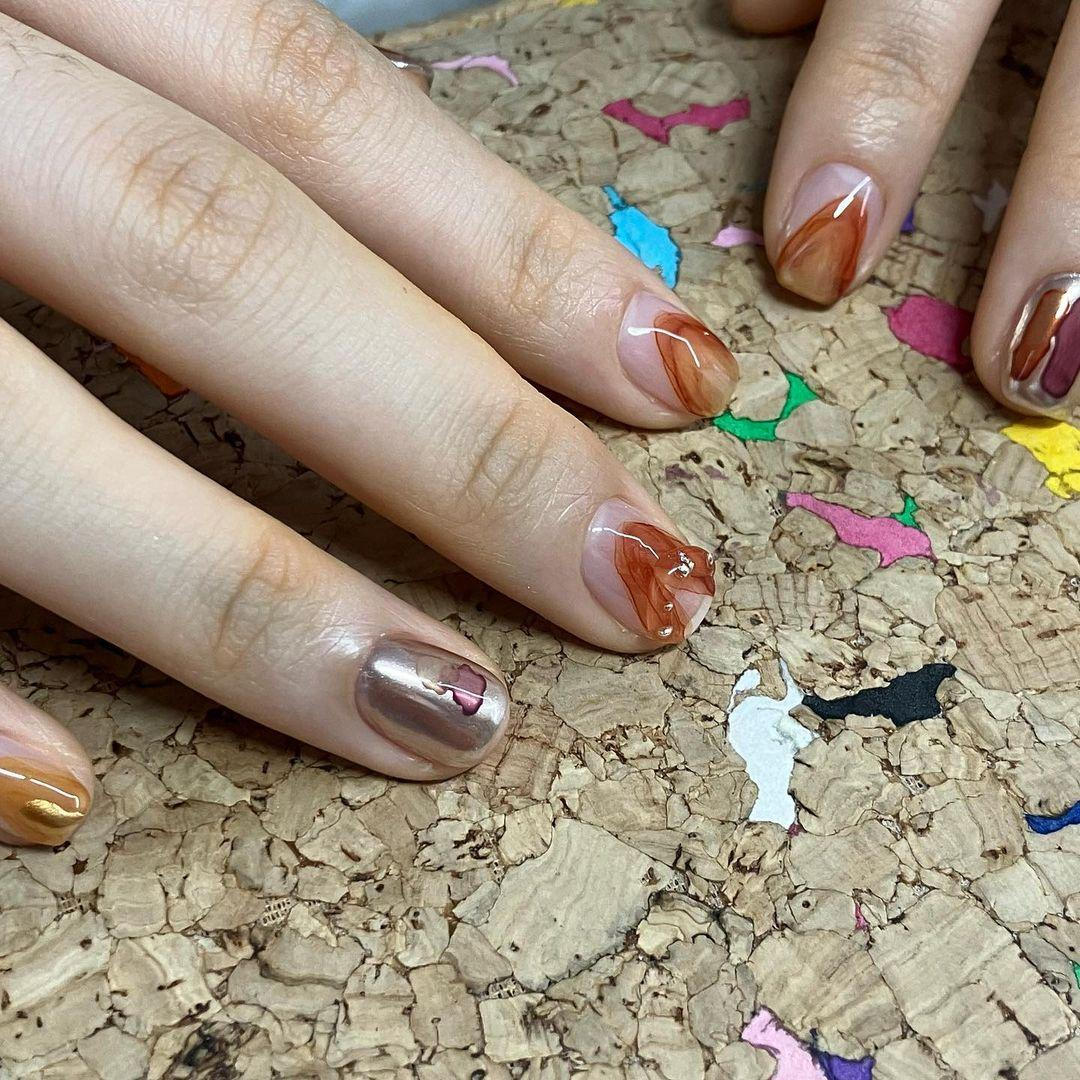nail: (352, 636, 510, 772), (580, 498, 715, 647), (616, 288, 740, 422), (770, 159, 880, 306), (0, 681, 96, 849), (1005, 270, 1078, 402)
